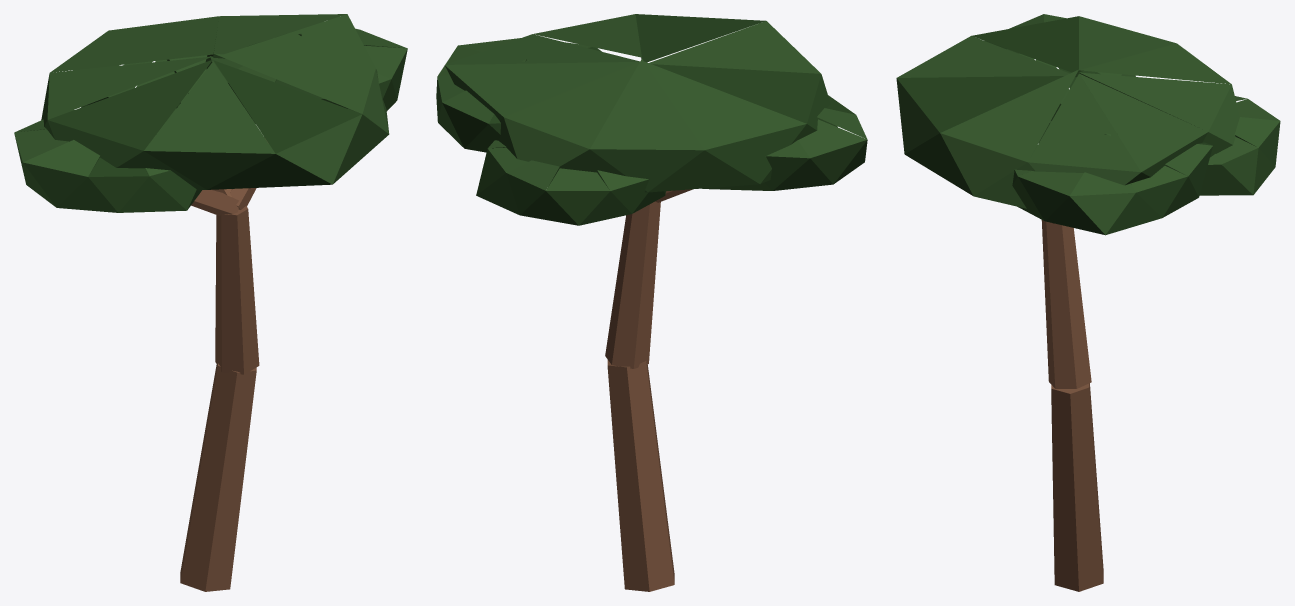
File: stone_pine.glb
3 views of the same model, side by side, from view 1: azimuth 30°, elevation 25°; view 2: azimuth 150°, elevation 25°; view 3: azimuth 270°, elevation 25° (orthographic). The views are drawn at different scales.
Visible parts, largest first — view 1: stone_pine2; view 2: stone_pine2; view 3: stone_pine2.
Part boxes in pixels (x1,y1,x2,y2): stone_pine2: (14,14,407,591); stone_pine2: (436,14,867,591); stone_pine2: (896,14,1280,591).
Size of the model in its own units: 5.12 by 6.44 by 4.36.
